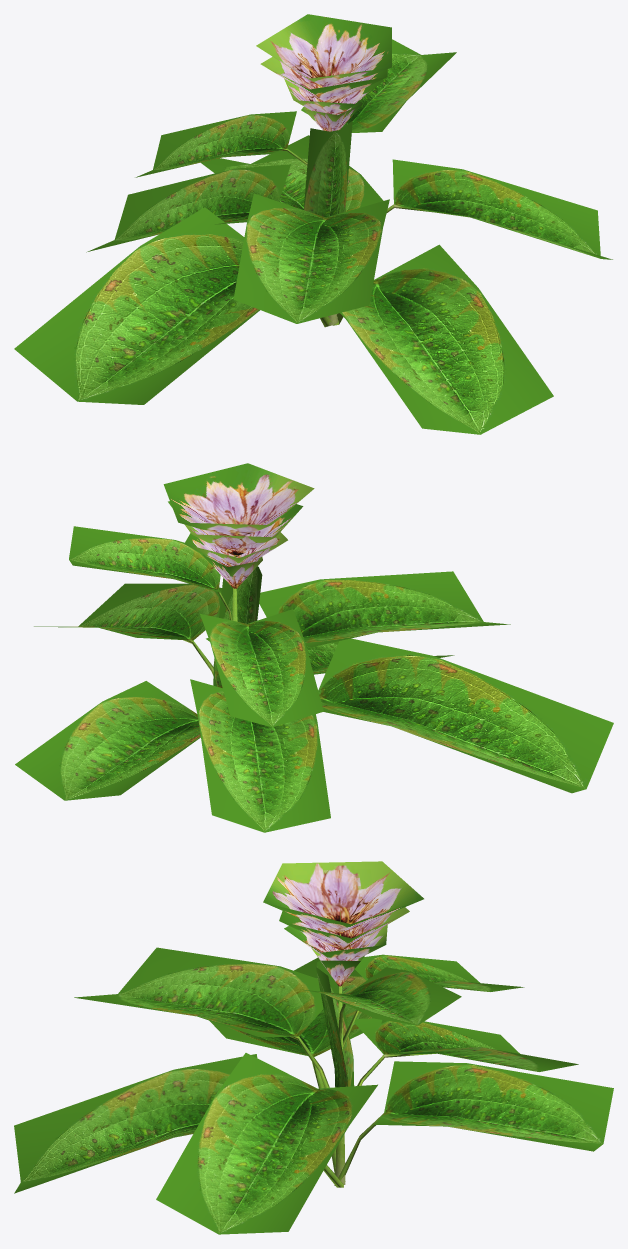
Rendered from nf_bigleaf.glb.
3 renders of one model, top to bottom at view 1: azimuth 30°, elevation 25°; view 2: azimuth 150°, elevation 25°; view 3: azimuth 270°, elevation 25°, orthographic. The views are drawn at different scales.
Parts seen in each view (by area): view 1: Box01; view 2: Box01; view 3: Box01.
Boxes of the visible parts, box(x1,y1,x2,y2) form: Box01: box(14, 14, 612, 434); Box01: box(15, 463, 613, 832); Box01: box(14, 861, 613, 1234).
Size of the model in its own units: 126 by 59.35 by 109.
1 material, 1 textured.
